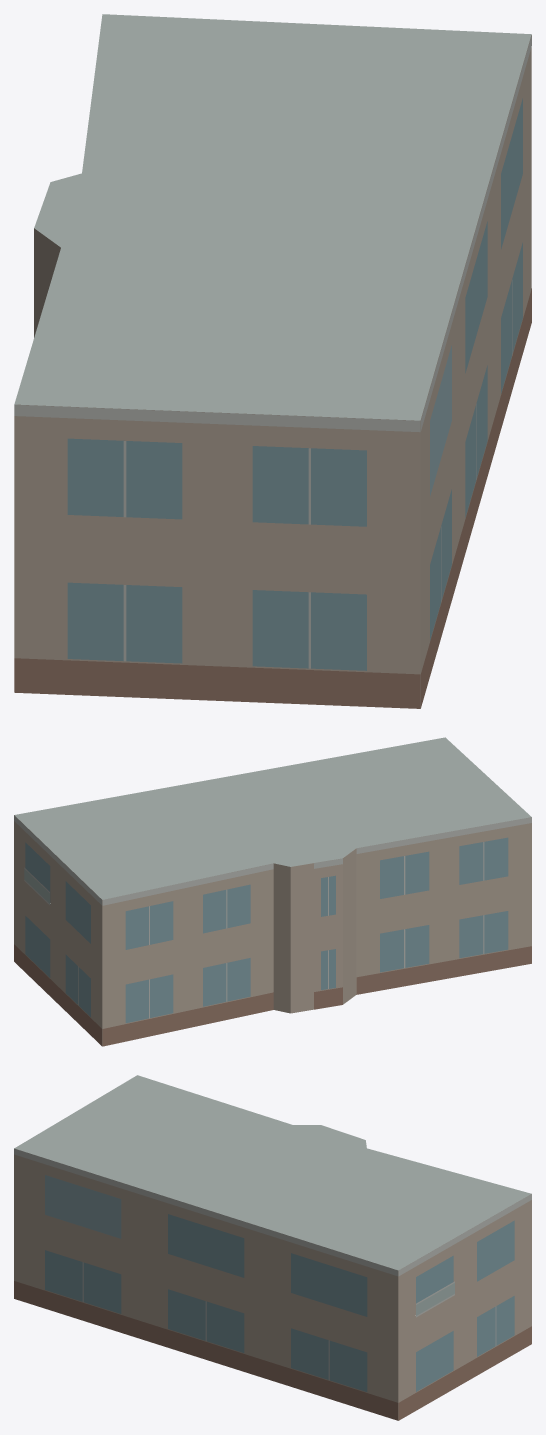
File: survey-upis-32848457.glb
3 renders of one model, top to bottom at view 1: azimuth 30°, elevation 25°; view 2: azimuth 150°, elevation 25°; view 3: azimuth 270°, elevation 25°, orthographic. The views are drawn at different scales.
Visible parts, largest first — view 1: survey-upis-32848457.tmp; view 2: survey-upis-32848457.tmp; view 3: survey-upis-32848457.tmp.
Boxes of the visible parts, bbox=[...] form: survey-upis-32848457.tmp: bbox=[14, 14, 531, 708]; survey-upis-32848457.tmp: bbox=[14, 737, 531, 1046]; survey-upis-32848457.tmp: bbox=[14, 1075, 531, 1420].
Size of the model in its own units: 17.02 by 6.1 by 19.05.
